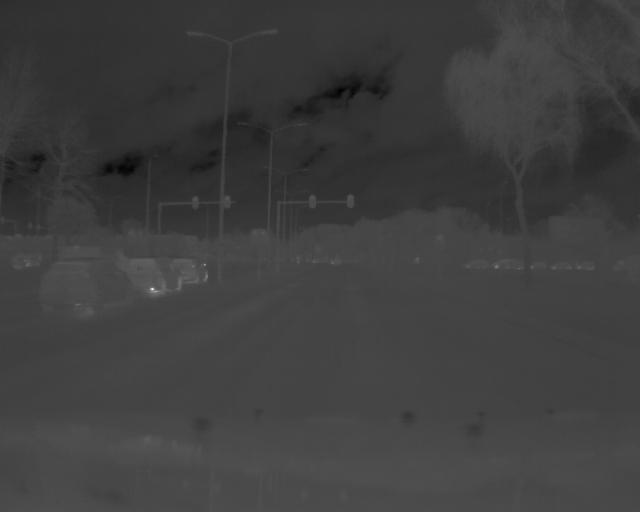car: (39, 255, 133, 317), (123, 255, 185, 293), (168, 254, 212, 284)
